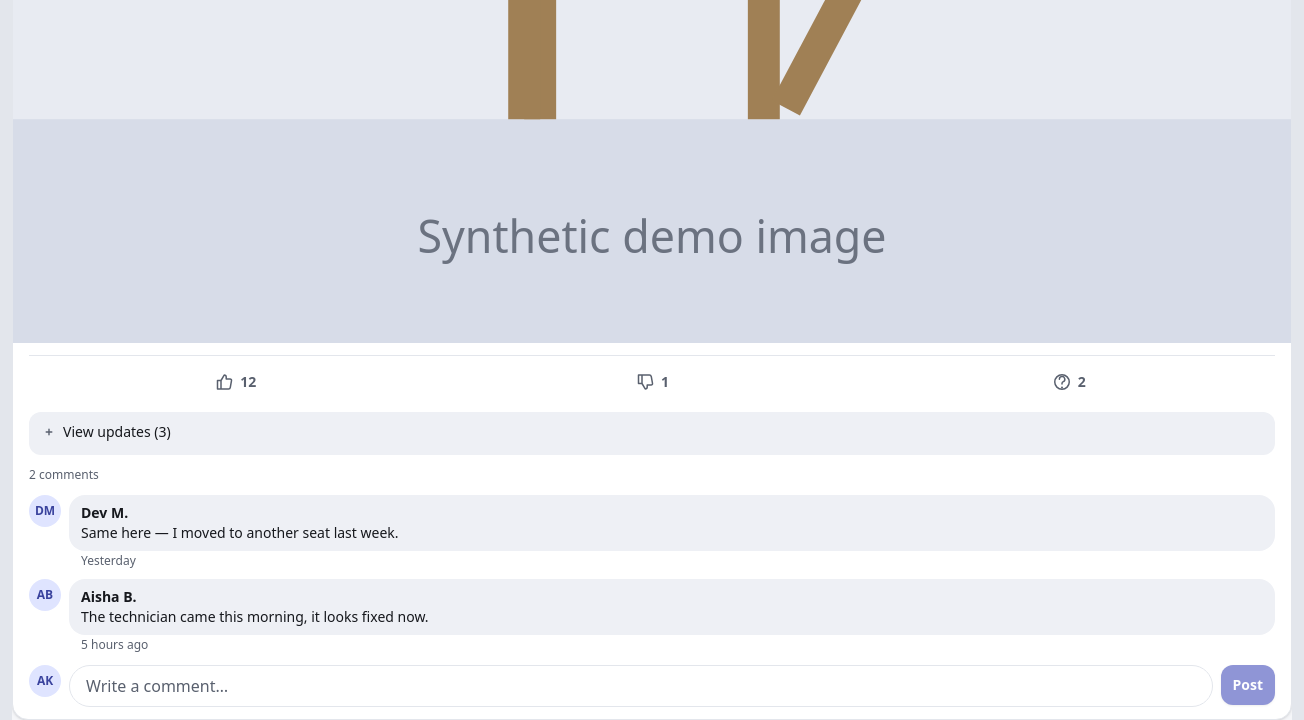
Test case: ReportCard (post) › reactions › moves the reaction when switching from Like to Dislike
This screenshot has width=1304, height=720.
(page scrolled)
Click the button named "Like": [235, 382] box [29,360,442,404]
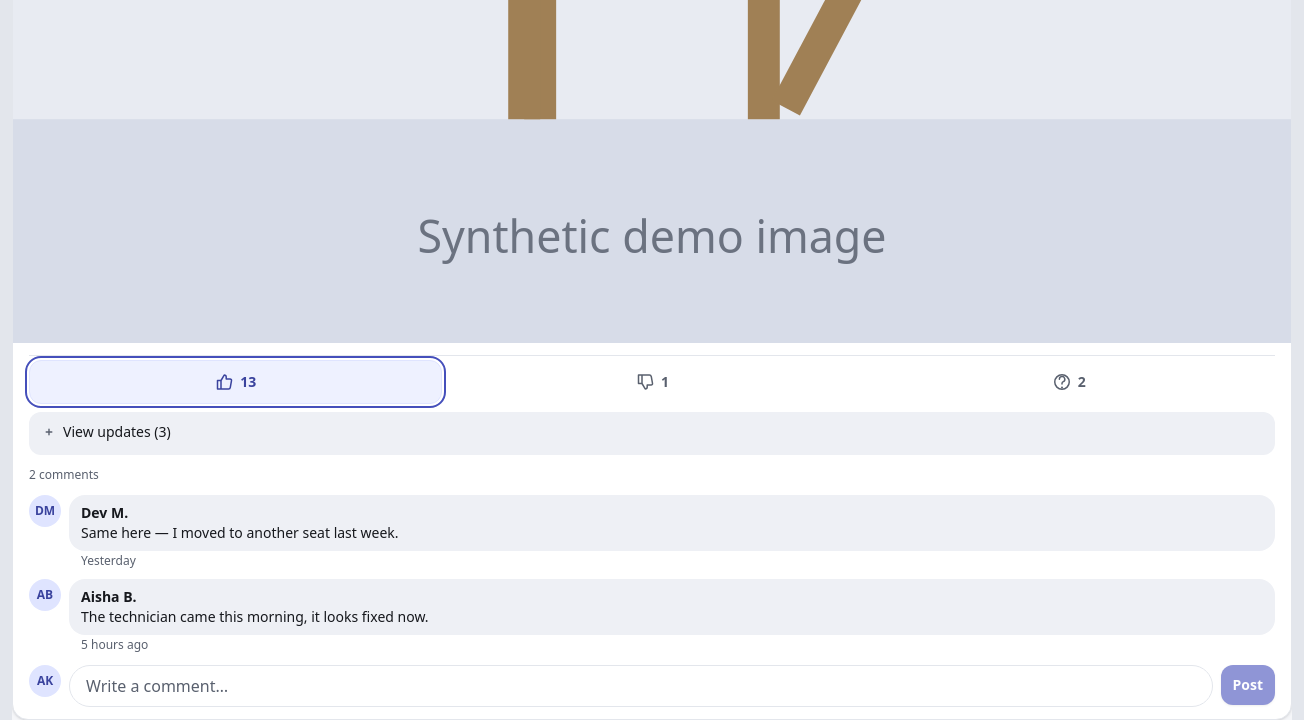
Click the button named "Dislike": [652, 382] box [446,360,858,404]
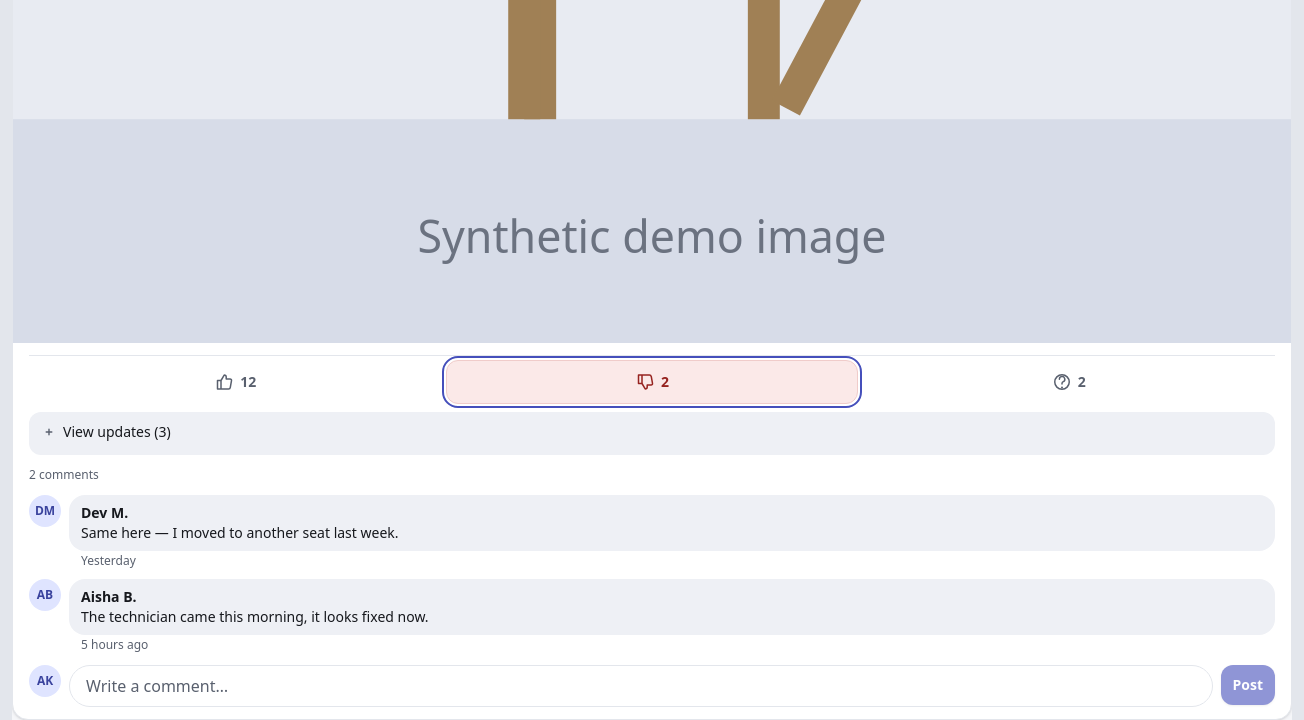
Now the button named "Like" reads "12", box [29,360,442,404]
Now the button named "Dislike" reads "2", box [446,360,858,404]
